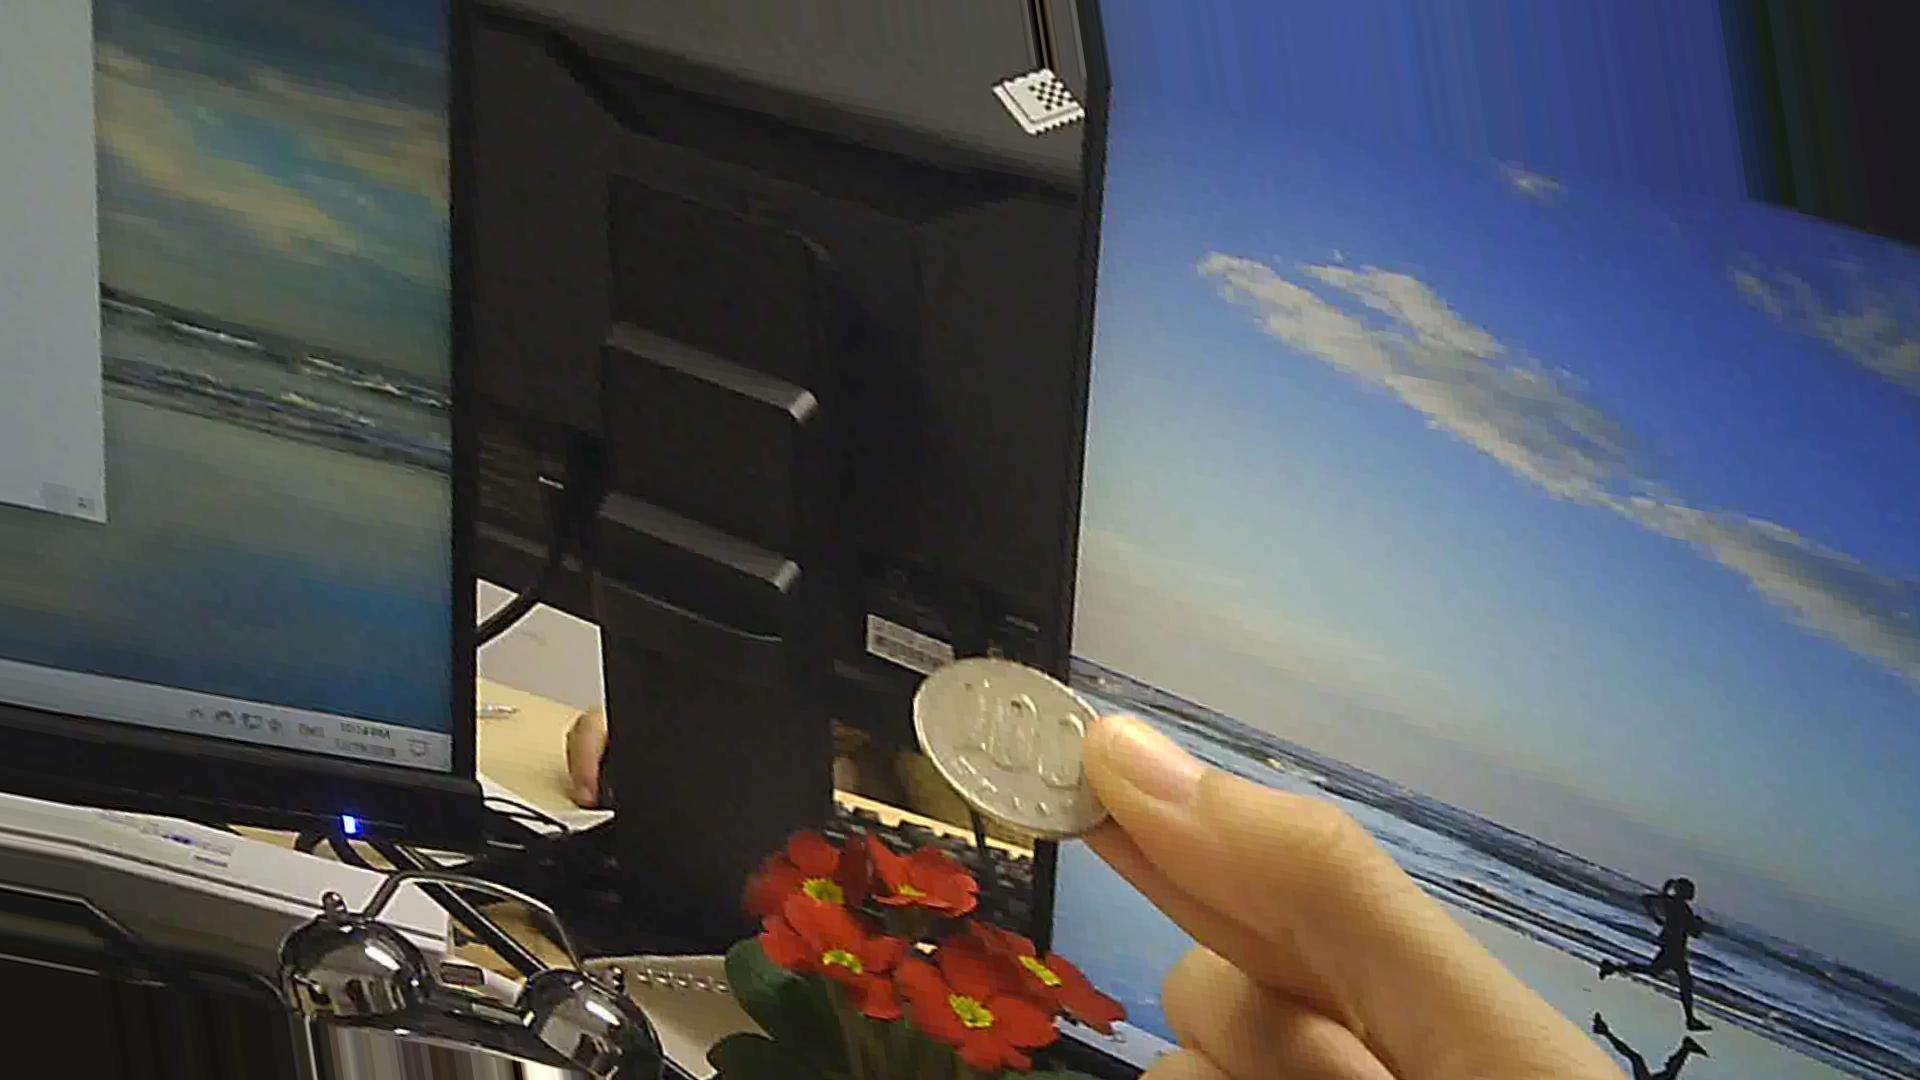100 Yen: (902, 637, 1125, 833)
